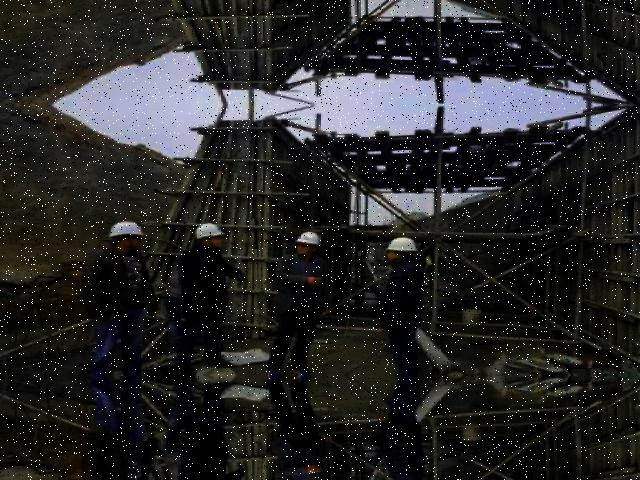Helmet: (99, 215, 145, 243), (188, 219, 232, 245), (378, 232, 419, 257), (287, 225, 321, 250)
